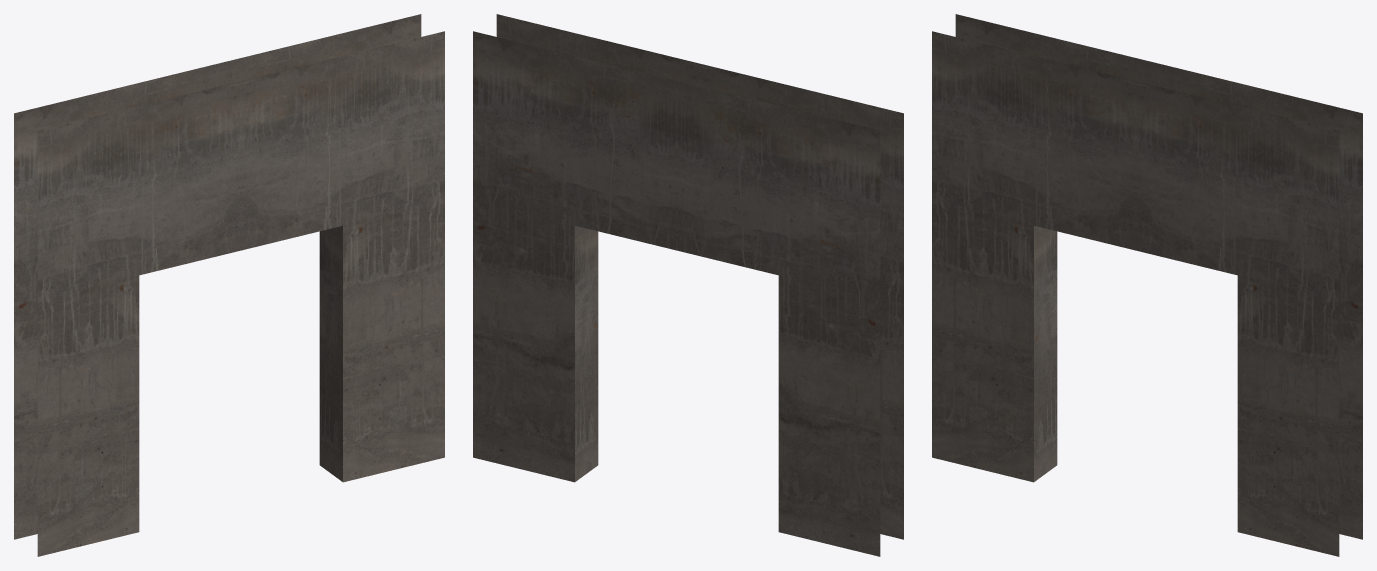
Rendered from DoorCover.fbx.
The picture shows the model from 3 angles, left to right: view 1: azimuth 30°, elevation 25°; view 2: azimuth 150°, elevation 25°; view 3: azimuth 330°, elevation 25°; orthographic projection.
Parts seen in each view (by area): view 1: DoorBorder; view 2: DoorBorder; view 3: DoorBorder.
Boxes of the visible parts, bbox=[...] form: DoorBorder: bbox=[14, 14, 444, 556]; DoorBorder: bbox=[473, 14, 903, 556]; DoorBorder: bbox=[932, 14, 1362, 556].
Size of the model in its own units: 400 by 400 by 40.
1 material, 1 textured.
